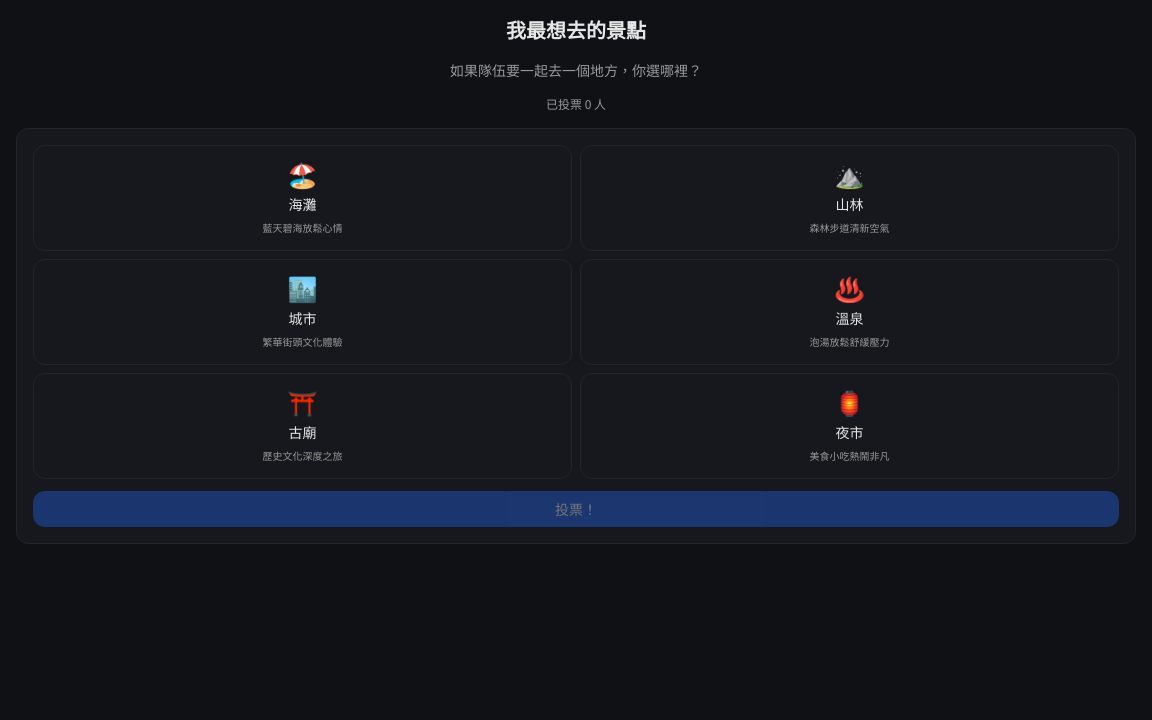
Scenario: SpotVote › 選擇景點後啟用投票按鈕
Click the button with test id "spv-spot-city" at (302,312), box x1=33 y1=259 x2=572 y2=365
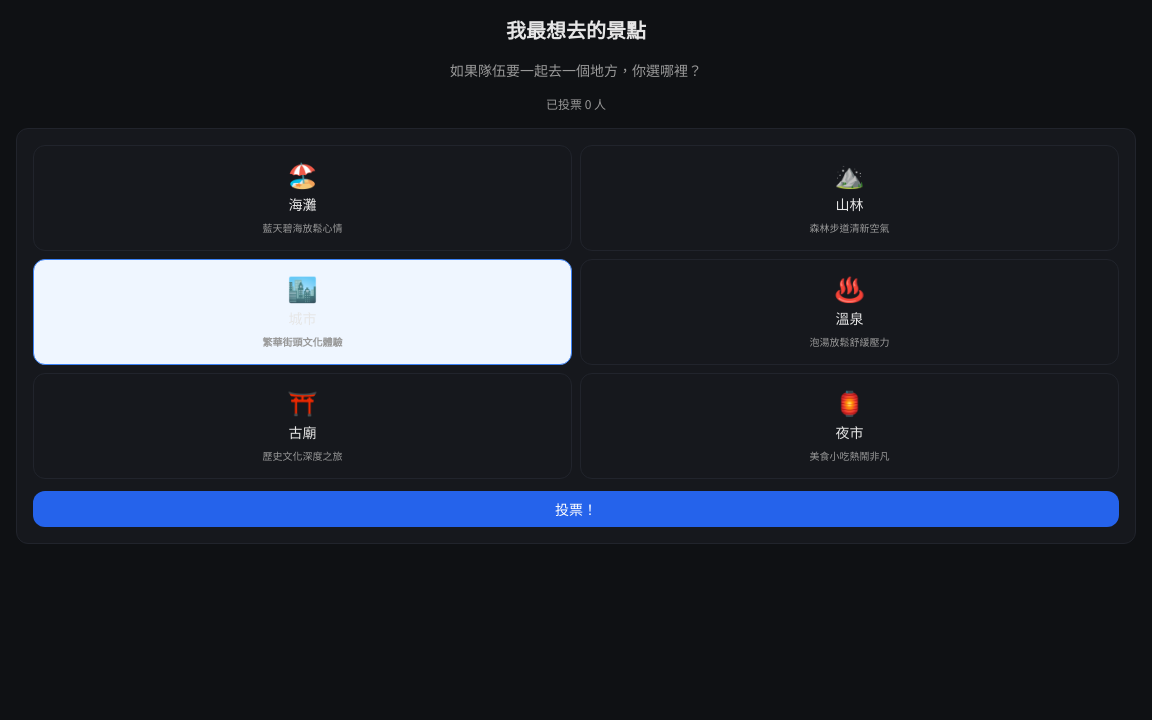
Check: the button with test id "spv-submit-btn" is enabled, box x1=33 y1=491 x2=1119 y2=527
